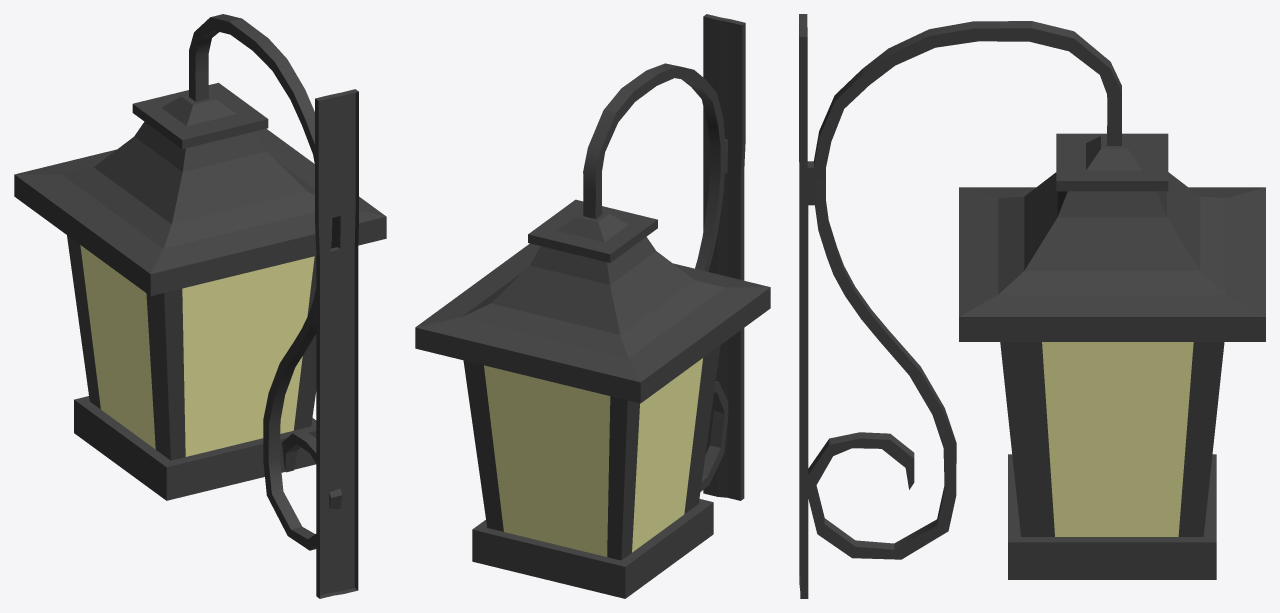
Rendered from Model_Lamp.fbx.
The picture shows the model from 3 angles, left to right: view 1: azimuth 30°, elevation 25°; view 2: azimuth 150°, elevation 25°; view 3: azimuth 270°, elevation 25°; orthographic projection. The views are drawn at different scales.
Parts seen in each view (by area): view 1: Model_Door1_Lamp; view 2: Model_Door1_Lamp; view 3: Model_Door1_Lamp.
Boxes of the visible parts, x1,y1,x2,y2 form: Model_Door1_Lamp: (14, 14, 386, 598); Model_Door1_Lamp: (415, 14, 770, 598); Model_Door1_Lamp: (799, 14, 1265, 598).
Size of the model in its own units: 0.72 by 1.46 by 1.09.
